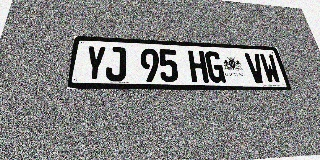5: (159, 49, 179, 82)
9: (141, 48, 160, 82)
G: (204, 51, 226, 83)
H: (188, 50, 209, 83)
J: (105, 46, 126, 81)
V: (244, 53, 267, 83)
W: (259, 54, 282, 84)
Y: (83, 46, 106, 81)
